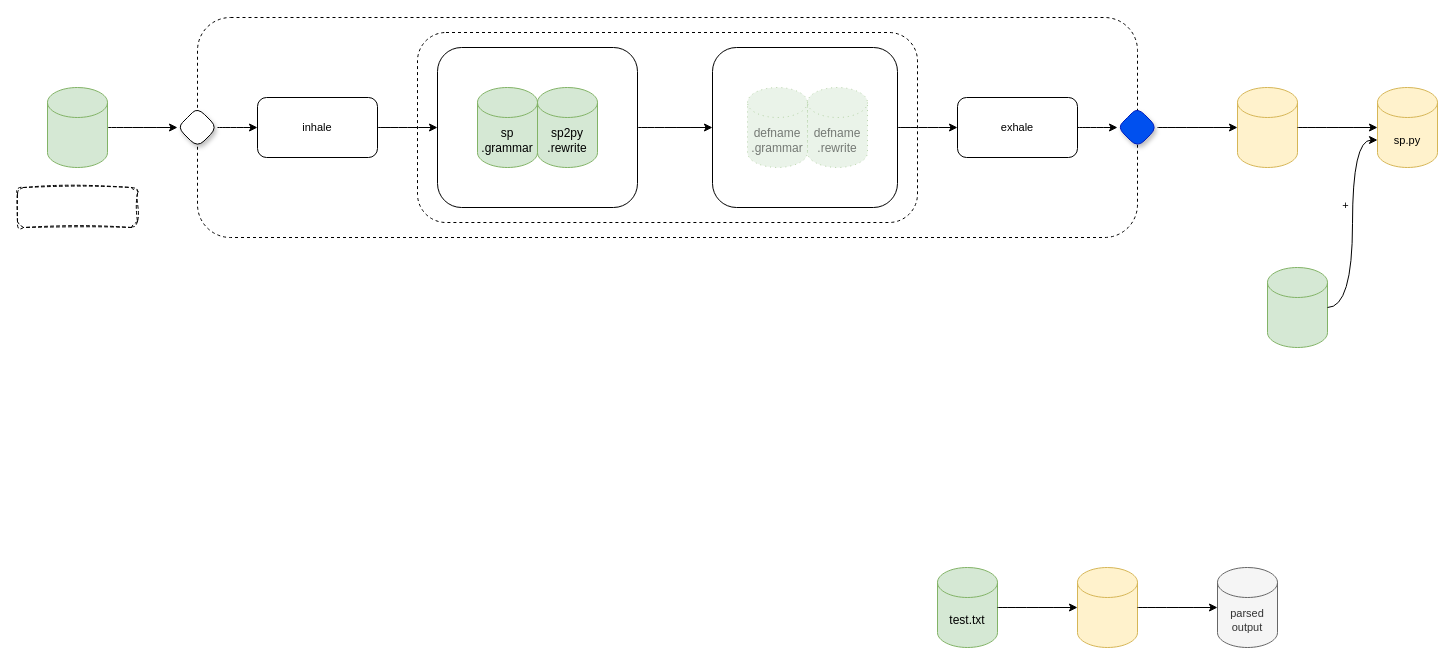
The diagram is 1455 pixels wide and 665 high, and some of its shapes have lost their labels. The shapes that lost their labels are listed below. From the top down, each one's centre as x and y in pixels, then its label:
At point 77,127: "das2json.sp".
At point 1267,127: "generated.py".
At point 77,207: "XML parser (sp = Stream Parser)".
At point 1297,307: "receptor.py".
At point 1107,607: "python3 sp.py".
